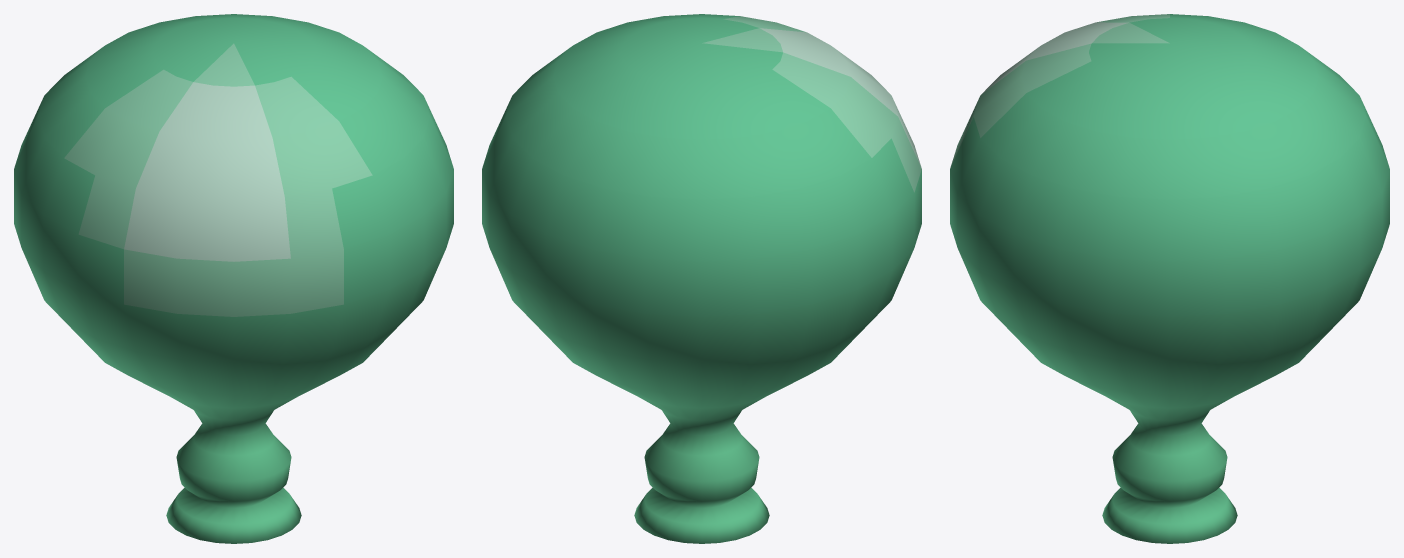
The model's file is pvp_fun_balloon.fbx.
The picture shows the model from 3 angles, left to right: view 1: azimuth 30°, elevation 25°; view 2: azimuth 150°, elevation 25°; view 3: azimuth 270°, elevation 25°; orthographic projection.
Visible parts, largest first — view 1: pvp_fun_balloon; view 2: pvp_fun_balloon; view 3: pvp_fun_balloon.
Boxes of the visible parts, x1,y1,x2,y2 form: pvp_fun_balloon: (14,14,453,543); pvp_fun_balloon: (482,14,921,543); pvp_fun_balloon: (950,14,1389,543).
Size of the model in its own units: 1.3 by 1.57 by 1.3.
